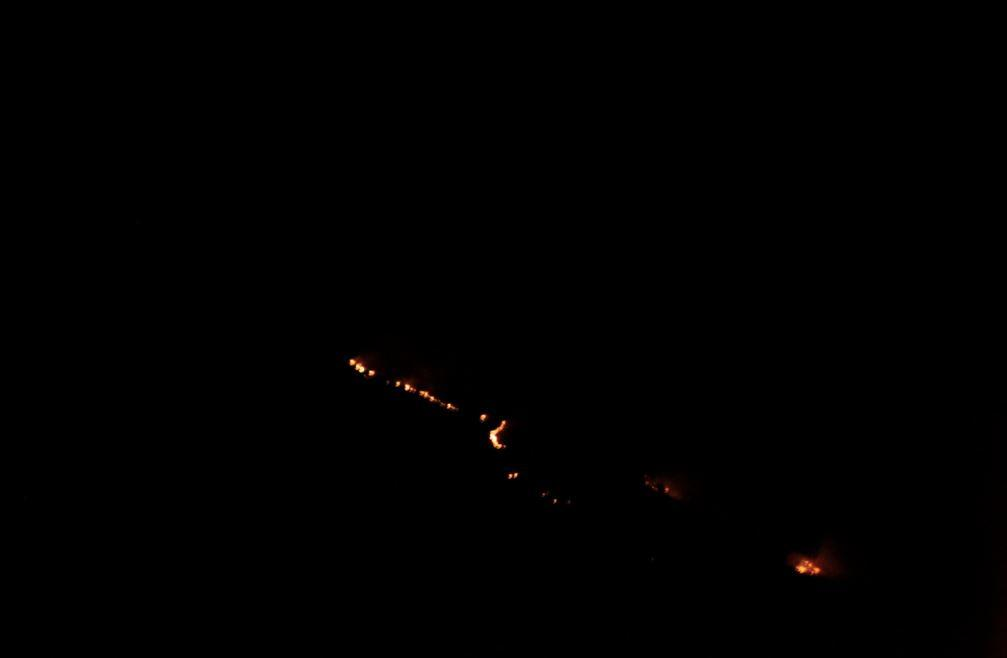Fire: (397, 382, 463, 413), (786, 548, 831, 581), (487, 419, 509, 451), (351, 357, 376, 376)
